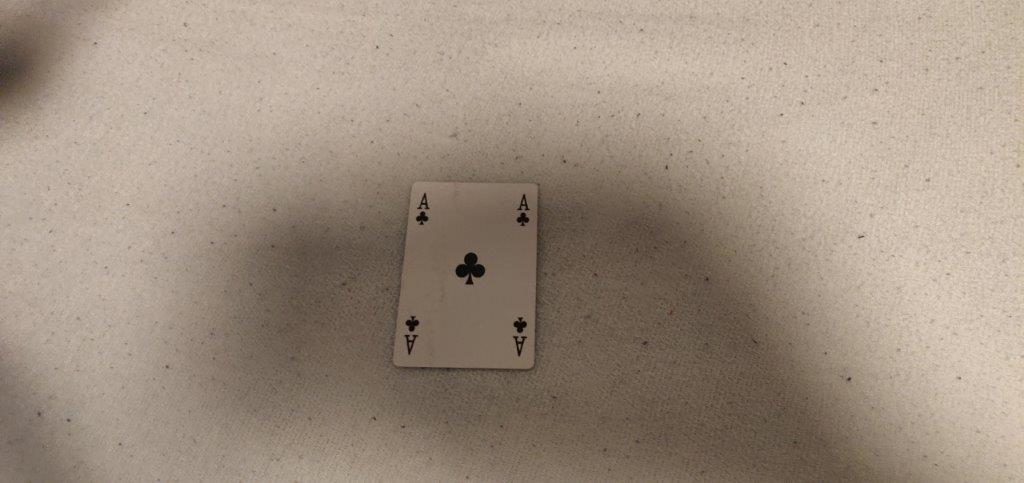AC: (412, 187, 437, 231), (514, 192, 534, 229)
